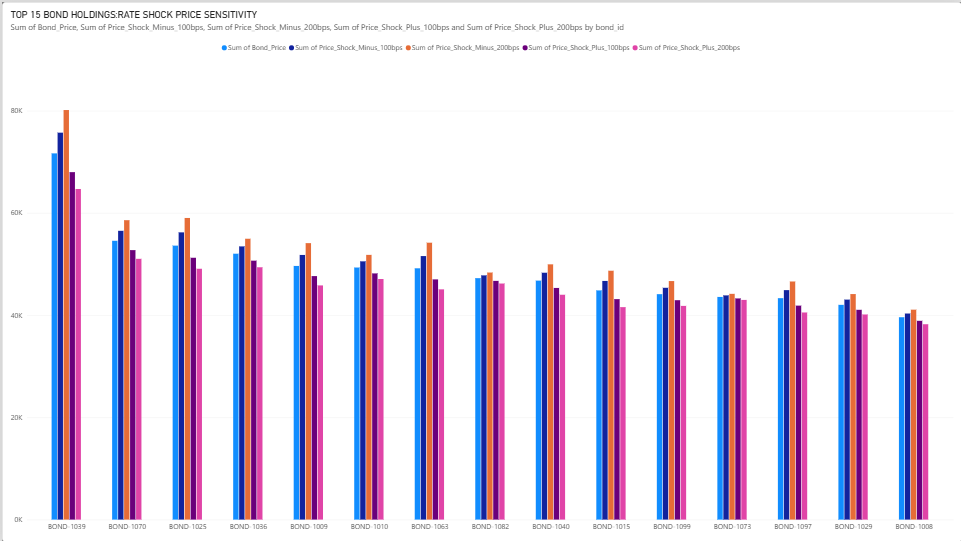

The dashboard page shown, as its layout file describes it:
{"tool":"powerbi","page":{"name":"Page 3","canvas":[1920,1080],"ordinal":2},"visuals":[{"type":"clusteredColumnChart","title":"TOP 15 BOND HOLDINGS:RATE SHOCK PRICE SENSITIVITY","fields":{"Category":["financial_calculated_results.bond_id"],"Y":["Sum(financial_calculated_results.Bond_Price)","Sum(financial_calculated_results.Price_Shock_Minus_100bps)","Sum(financial_calculated_results.Price_Shock_Minus_200bps)","Sum(financial_calculated_results.Price_Shock_Plus_100bps)","Sum(financial_calculated_results.Price_Shock_Plus_200bps)"]},"box":[0,0,1920,1080],"z":0}]}

Visuals, with their boxes in screenshot pixels (x1, y1, x2, y2), scaled from the page's 1920x1080 canvas onto the 961x541 screenshot:
"TOP 15 BOND HOLDINGS:RATE SHOCK PRICE SENSITIVITY" clusteredColumnChart: (x1=0, y1=0, x2=960, y2=540)
